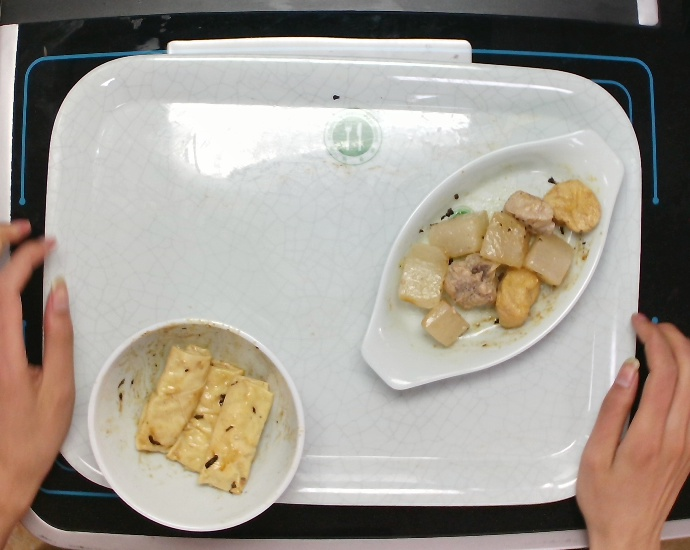JYsf-Fan_Wan: (81, 312, 310, 538)
JYsf-Yu_Pan: (355, 120, 632, 394)
